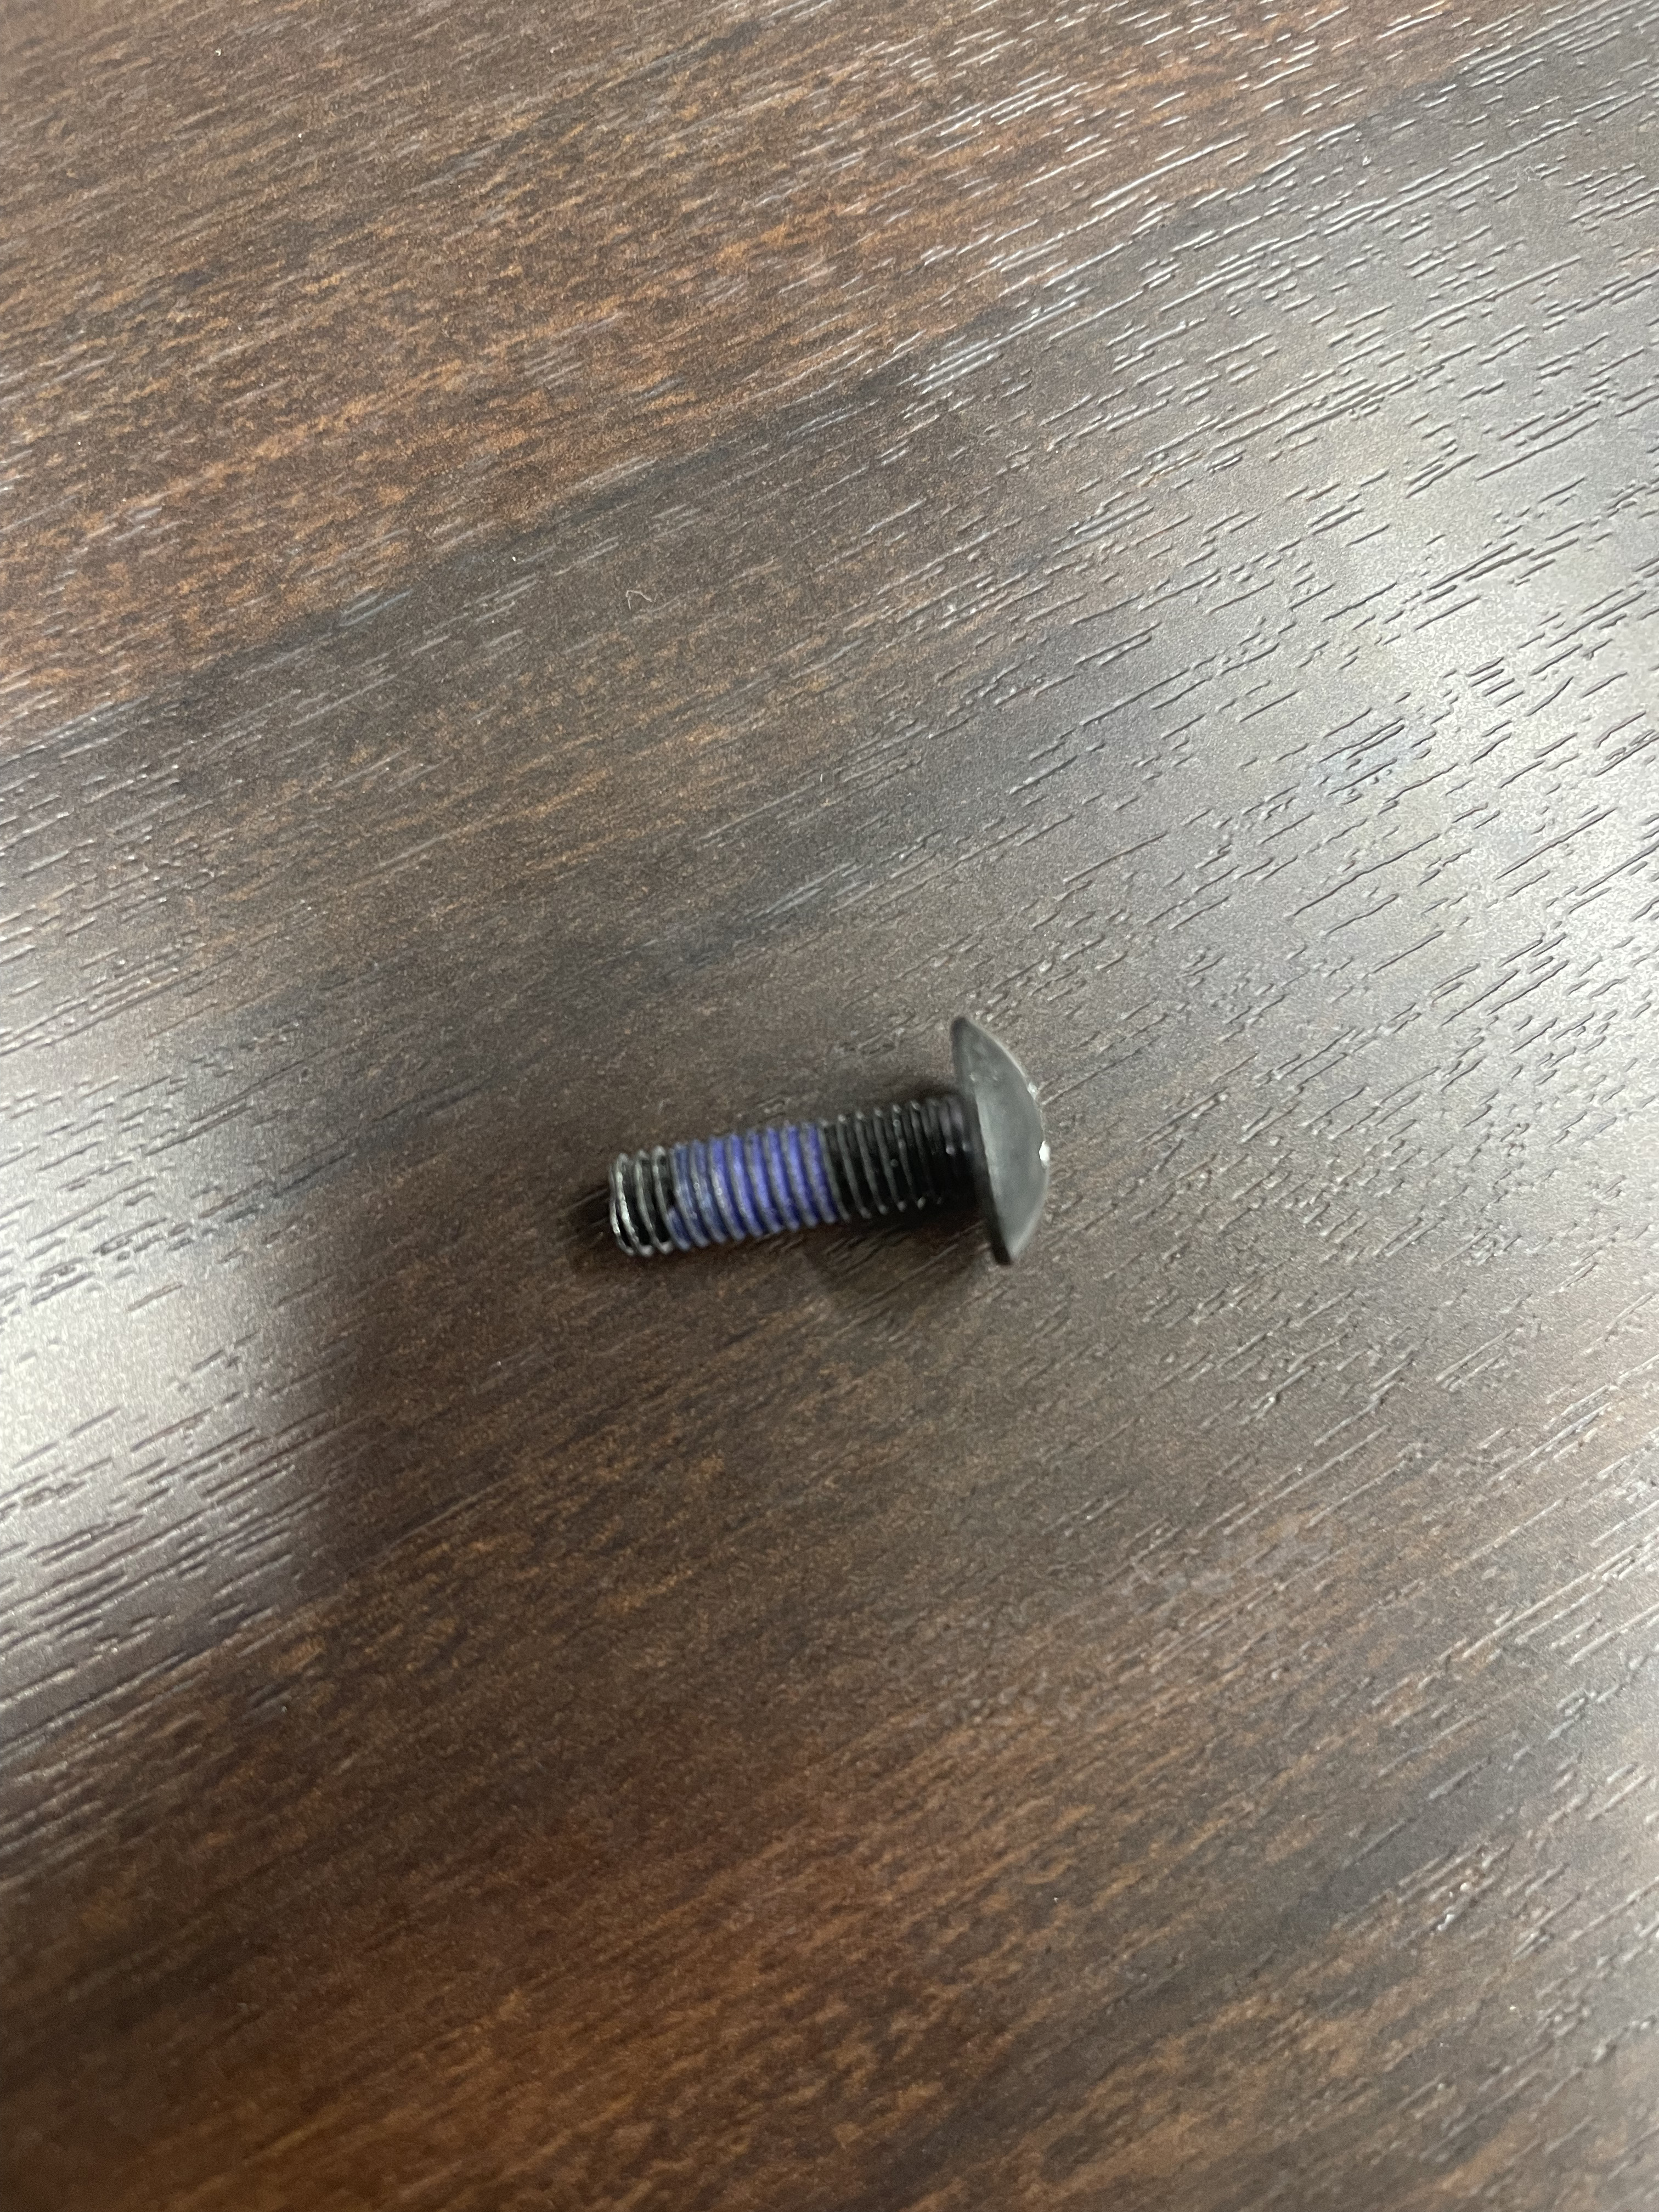screw1: (602, 1017, 1050, 1278)
